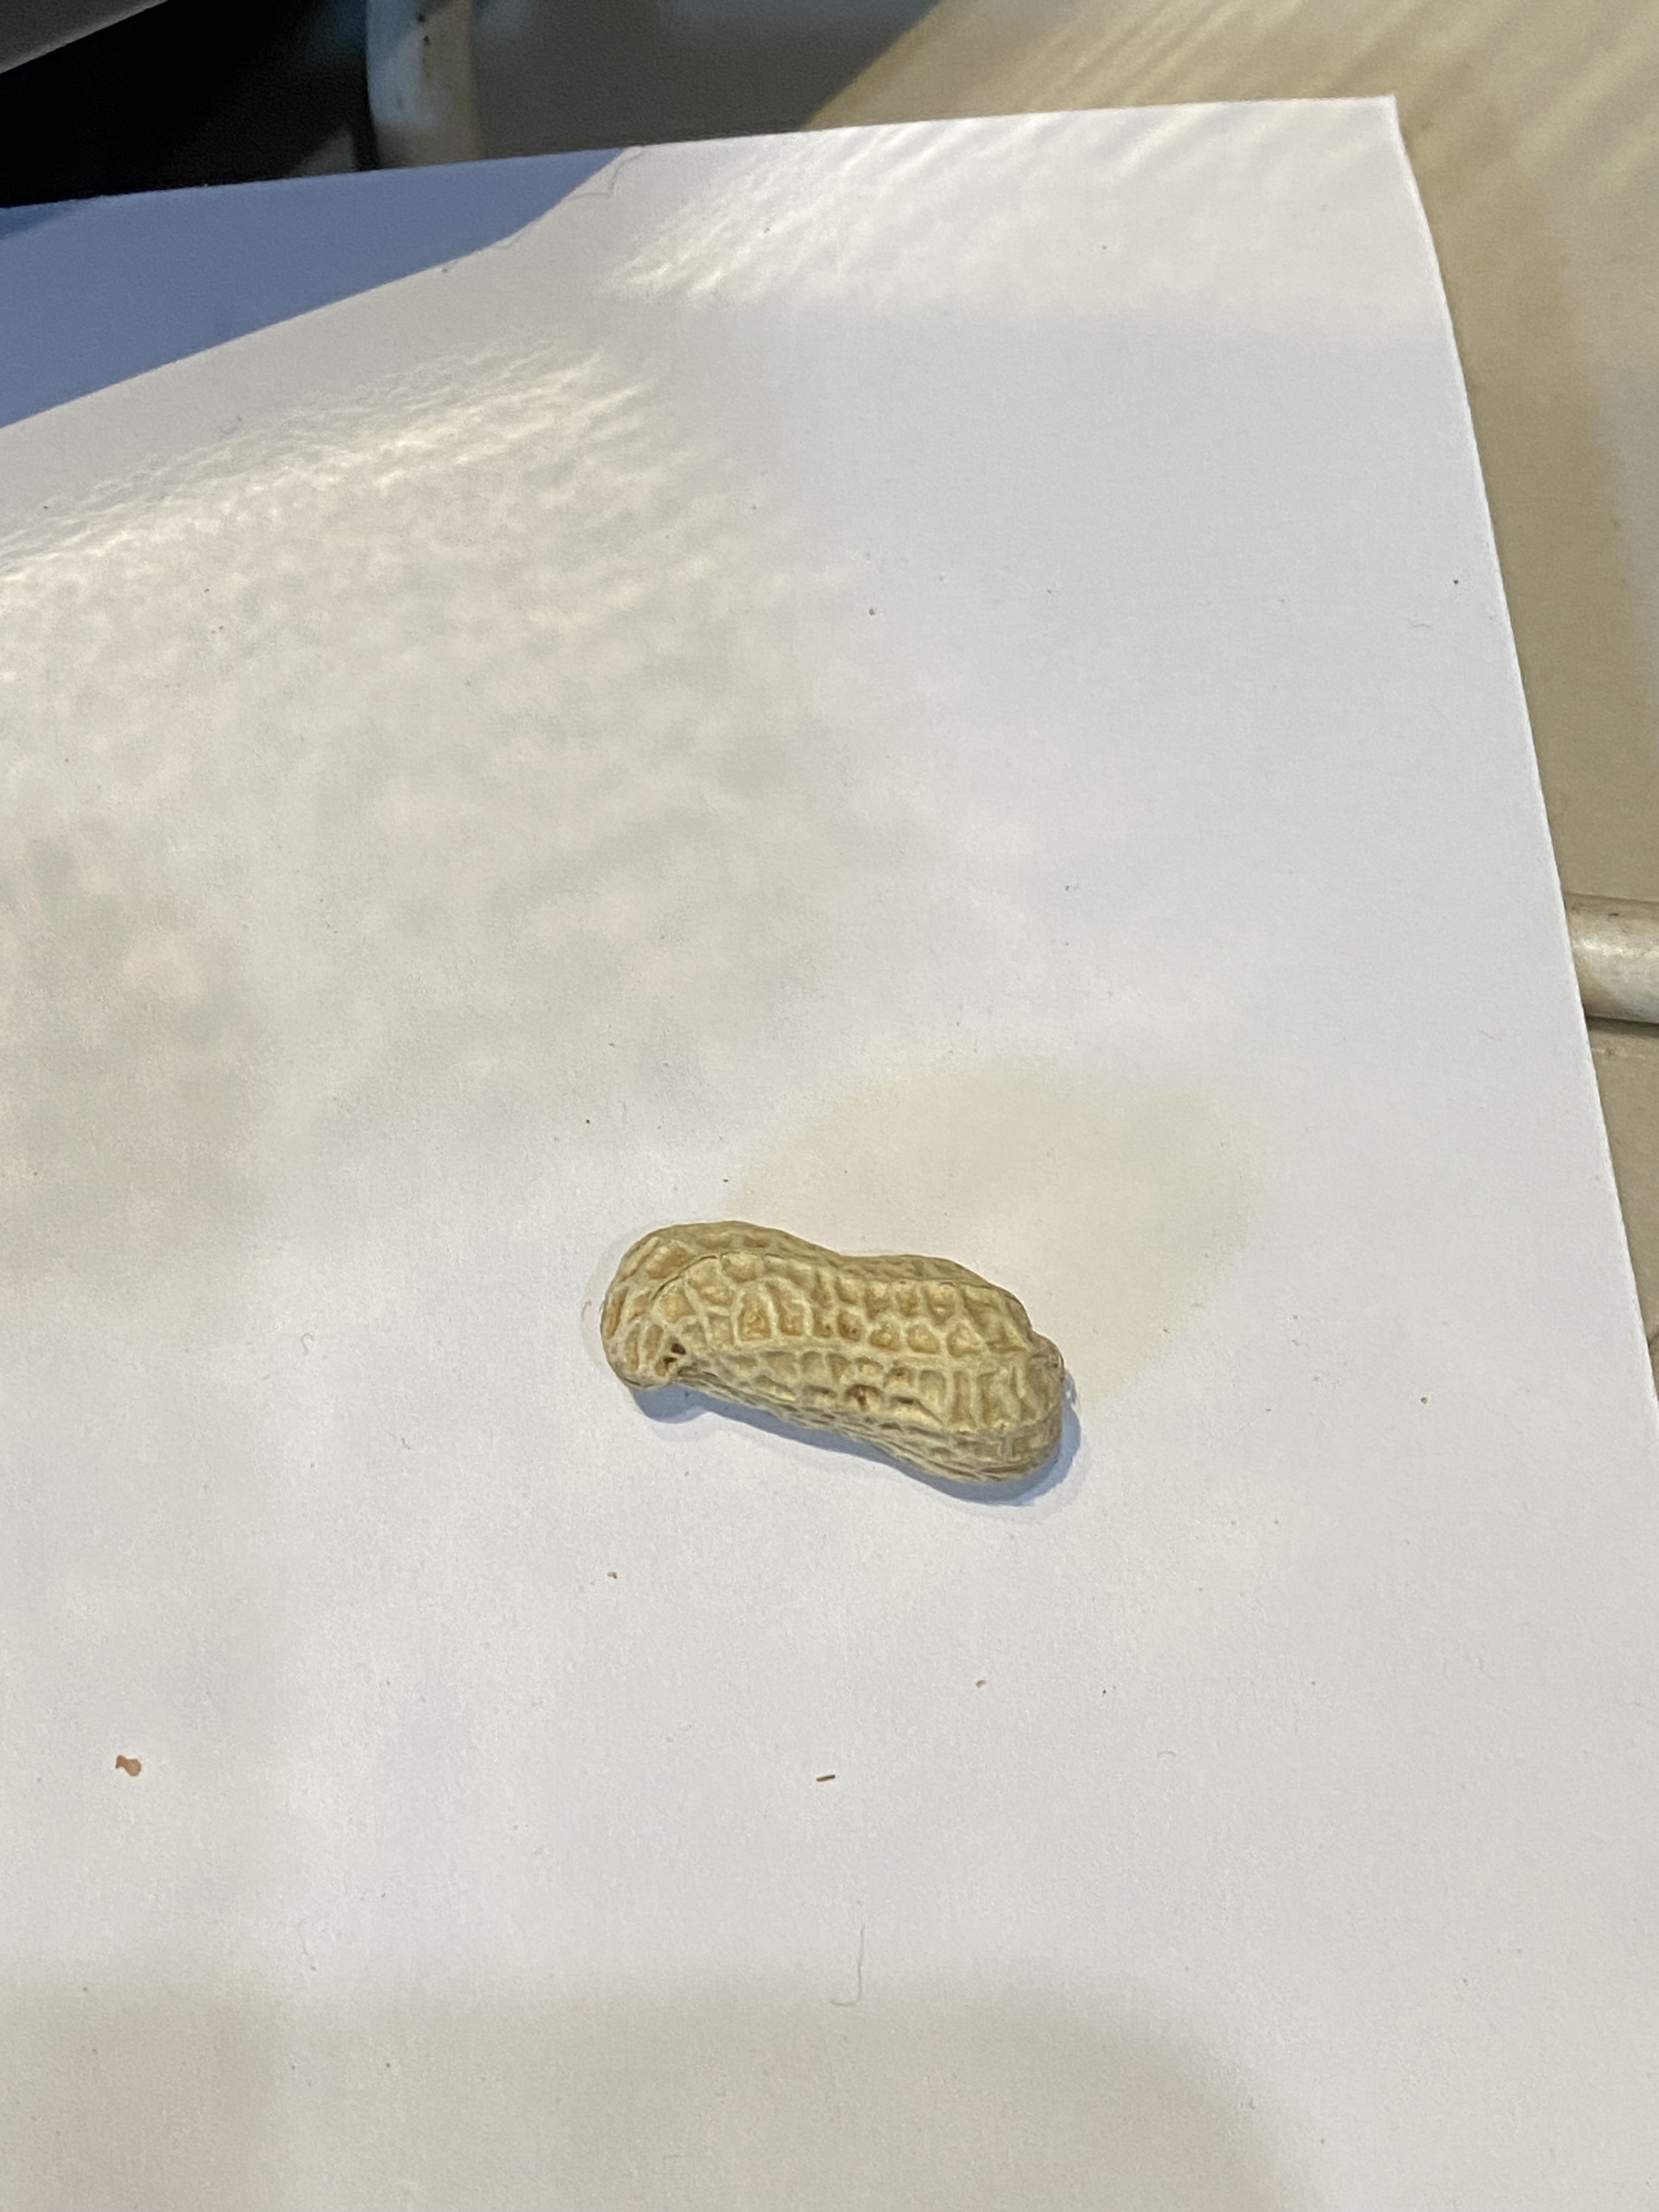kacang2: (591, 1216, 1101, 1493)
